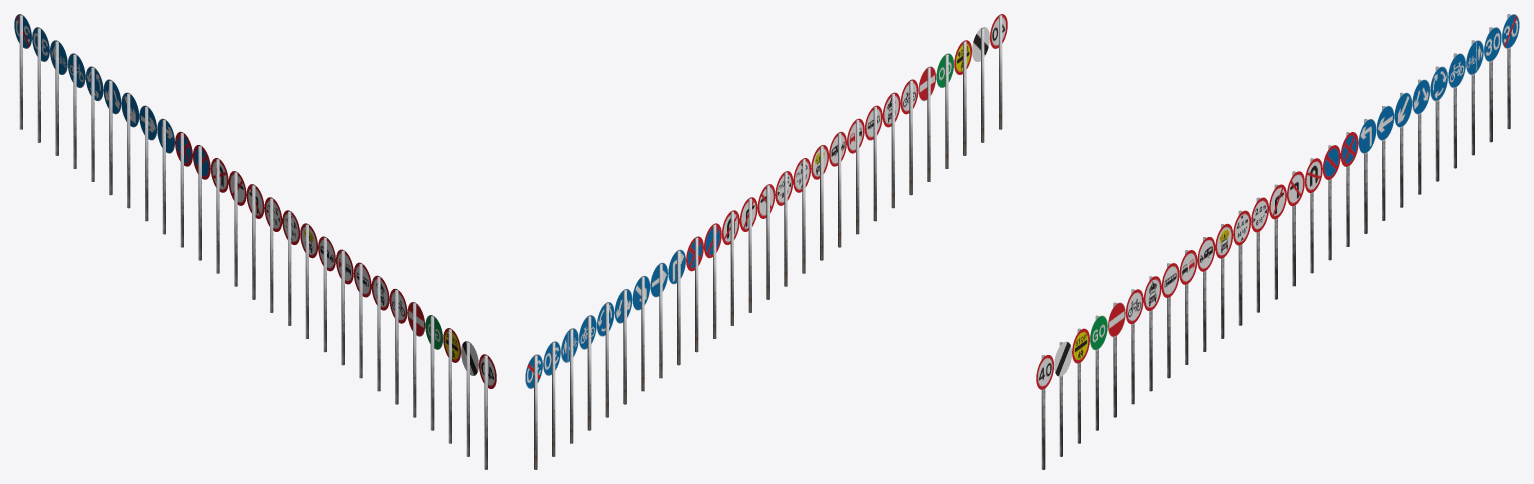
Rendered from ldn_uk_road_signs.glb.
The picture shows the model from 3 angles, left to right: view 1: azimuth 30°, elevation 25°; view 2: azimuth 150°, elevation 25°; view 3: azimuth 330°, elevation 25°; orthographic projection.
Visible parts, largest first — view 1: sign-giving-order-manually-go_3, sign-giving-order-vehicle-pass-either-side_21, sign-giving-order-mini-roundabout_22, sign-giving-order-no-buses_7, sign-giving-order-no-overtaking_8, sign-giving-order-no-right-turn_13, sign-giving-order-no-left-turn_14, sign-giving-order-no-stopping_17, sign-giving-order-keep-left_20, sign-giving-order-minimum-speed_25, sign-giving-order-no-entry-vehicular-traffic_4, sign-giving-order-no-cycling_5 (+15 smaller); view 2: sign-giving-order-route-pedal-cycles-only_23, sign-giving-order-no-entry-vehicular-traffic_4, sign-giving-order-no-cycling_5, sign-giving-order-turn-left_19, sign-giving-order-national-speed-limit_0, sign-giving-order-no-motor-vehicles_6, sign-giving-order-no-towed-caravans_9, sign-giving-order-no-vehicle-width_12, sign-giving-order-no-right-turn_13, sign-giving-order-turn-left-ahead_18, sign-giving-order-no-overtaking_8, sign-giving-order-no-vehicles-carry-explosives_10 (+15 smaller); view 3: sign-giving-order-mini-roundabout_22, sign-giving-order-no-vehicles-over-height_11, sign-giving-order-maximum-speed_1, sign-giving-order-no-left-turn_14, sign-giving-order-segregated-cycle-pedestrian-route_24, sign-giving-order-no-entry-vehicular-traffic_4, sign-giving-order-minimum-speed_25, sign-giving-order-no-cycling_5, sign-giving-order-no-buses_7, sign-giving-order-no-stopping_17, sign-giving-order-turn-left_19, sign-giving-order-no-overtaking_8 (+15 smaller).
Boxes of the visible parts, <box> form: sign-giving-order-manually-go_3: <box>425,315,442,430</box>; sign-giving-order-vehicle-pass-either-side_21: <box>103,79,121,195</box>; sign-giving-order-mini-roundabout_22: <box>85,66,103,181</box>; sign-giving-order-no-buses_7: <box>353,262,371,378</box>; sign-giving-order-no-overtaking_8: <box>336,249,353,365</box>; sign-giving-order-no-right-turn_13: <box>246,184,264,299</box>; sign-giving-order-no-left-turn_14: <box>228,171,246,286</box>; sign-giving-order-no-stopping_17: <box>175,131,192,247</box>; sign-giving-order-keep-left_20: <box>121,92,139,208</box>; sign-giving-order-minimum-speed_25: <box>32,27,49,142</box>; sign-giving-order-no-entry-vehicular-traffic_4: <box>407,302,425,417</box>; sign-giving-order-no-cycling_5: <box>389,289,407,404</box>; sign-giving-order-route-pedal-cycles-only_23: <box>579,315,596,430</box>; sign-giving-order-no-entry-vehicular-traffic_4: <box>918,66,936,181</box>; sign-giving-order-no-cycling_5: <box>900,79,918,195</box>; sign-giving-order-turn-left_19: <box>650,262,668,378</box>; sign-giving-order-national-speed-limit_0: <box>972,27,989,142</box>; sign-giving-order-no-motor-vehicles_6: <box>882,92,900,208</box>; sign-giving-order-no-towed-caravans_9: <box>829,131,846,247</box>; sign-giving-order-no-vehicle-width_12: <box>775,171,793,286</box>; sign-giving-order-no-right-turn_13: <box>757,184,775,299</box>; sign-giving-order-turn-left-ahead_18: <box>668,249,685,365</box>; sign-giving-order-no-overtaking_8: <box>847,118,864,234</box>; sign-giving-order-no-vehicles-carry-explosives_10: <box>811,145,828,260</box>; sign-giving-order-mini-roundabout_22: <box>1430,66,1447,181</box>; sign-giving-order-no-vehicles-over-height_11: <box>1233,210,1250,325</box>; sign-giving-order-maximum-speed_1: <box>1036,355,1053,469</box>; sign-giving-order-no-left-turn_14: <box>1287,171,1304,286</box>; sign-giving-order-segregated-cycle-pedestrian-route_24: <box>1466,40,1483,155</box>; sign-giving-order-no-entry-vehicular-traffic_4: <box>1108,302,1125,417</box>; sign-giving-order-minimum-speed_25: <box>1484,27,1501,142</box>; sign-giving-order-no-cycling_5: <box>1125,289,1143,404</box>; sign-giving-order-no-buses_7: <box>1161,263,1179,378</box>; sign-giving-order-no-stopping_17: <box>1340,132,1358,246</box>; sign-giving-order-turn-left_19: <box>1376,105,1394,220</box>; sign-giving-order-no-overtaking_8: <box>1179,250,1197,364</box>.
Bounding box in the file's own units: 0.206 × 7 × 54.
54 materials, 54 textured.
